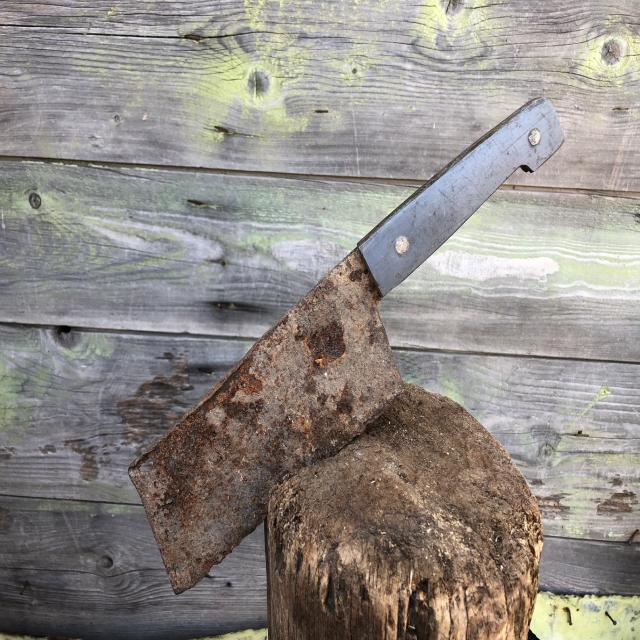cleaver: (126, 98, 566, 600)
